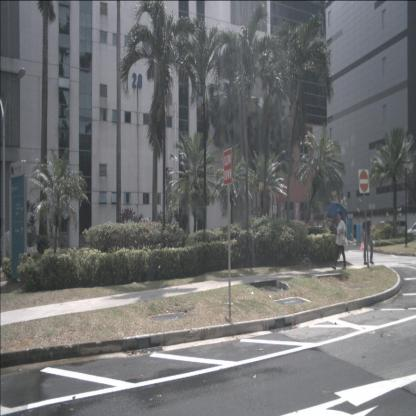human-pedestrian-adult: (326, 200, 348, 272), (360, 210, 375, 265)
vehicle-car: (406, 222, 416, 240)
